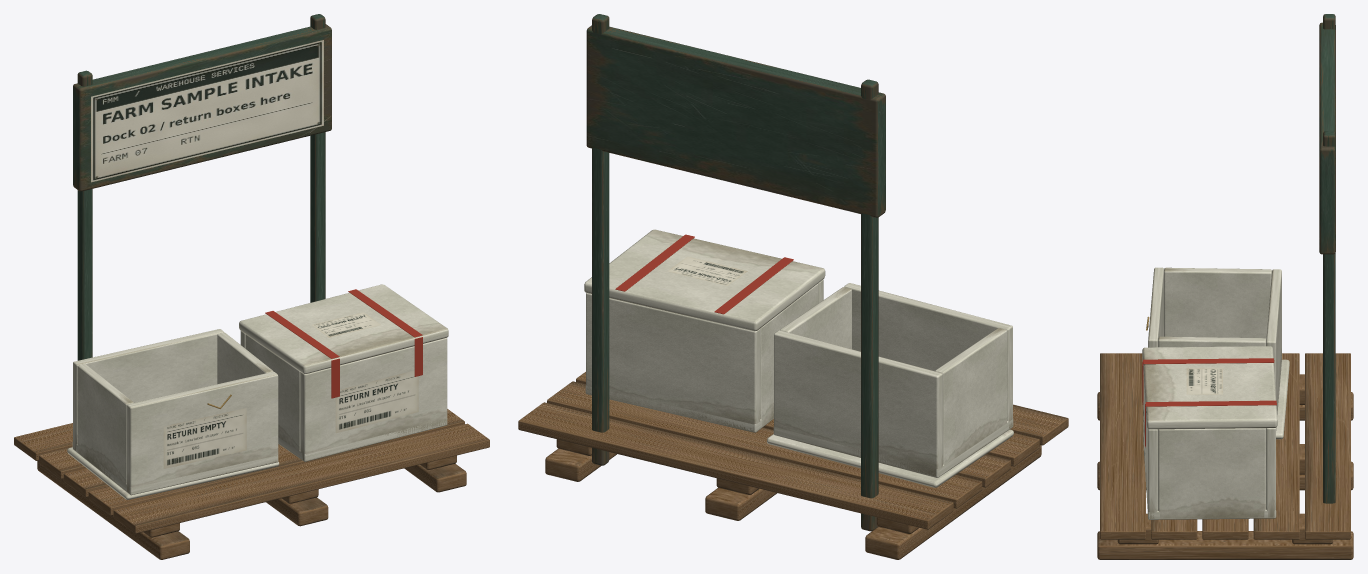
The model's file is 06_Farm_Sample_Return.glb.
The picture shows the model from 3 angles, left to right: view 1: azimuth 30°, elevation 25°; view 2: azimuth 150°, elevation 25°; view 3: azimuth 270°, elevation 25°; orthographic projection. The views are drawn at different scales.
Parts seen in each view (by area): view 1: EPS shipper front/back, Farm sample handover, Pallet plank, Tongued foam lid.001, EPS shipper ends, Dock slot signage, Pallet runner, Return to farm, Intact inbound sticker.001, Dock sign posts, Dock sign posts.001, EPS shipper bottom.002 (+6 smaller); view 2: EPS shipper front/back, Dock slot signage, Pallet plank, Tongued foam lid.001, EPS shipper ends, Dock sign posts.001, Dock sign posts, Pallet runner, Foam lid underneath.001, EPS shipper bottom.002, EPS shipper bottom.003, Manifest pouch (+3 smaller); view 3: Pallet plank, EPS shipper ends, Tongued foam lid.001, Pallet runner, EPS shipper front/back, Dock slot signage, Dock sign posts.001, Pallet block, Manifest pouch, Seal over lid.003, Seal over lid.002, Foam lid underneath.001 (+1 smaller).
Part boxes in pixels (x1=…): EPS shipper front/back: x1=73, y1=329, x2=447, y2=493; Farm sample handover: x1=91, y1=40, x2=323, y2=182; Pallet plank: x1=14, y1=409, x2=489, y2=533; Tongued foam lid.001: x1=239, y1=284, x2=448, y2=373; EPS shipper ends: x1=77, y1=332, x2=300, y2=483; Dock slot signage: x1=73, y1=24, x2=331, y2=191; Pallet runner: x1=37, y1=460, x2=466, y2=559; Return to farm: x1=163, y1=408, x2=246, y2=468; Intact inbound sticker.001: x1=335, y1=370, x2=418, y2=433; Dock sign posts: x1=77, y1=70, x2=92, y2=360; Dock sign posts.001: x1=310, y1=14, x2=325, y2=302; EPS shipper bottom.002: x1=72, y1=442, x2=278, y2=495; EPS shipper front/back: x1=586, y1=279, x2=1012, y2=476; Dock slot signage: x1=586, y1=25, x2=885, y2=217; Pallet plank: x1=518, y1=372, x2=1068, y2=529; Tongued foam lid.001: x1=584, y1=229, x2=825, y2=331; EPS shipper ends: x1=760, y1=284, x2=1006, y2=465; Dock sign posts.001: x1=592, y1=14, x2=609, y2=465; Dock sign posts: x1=861, y1=79, x2=878, y2=531; Pallet runner: x1=545, y1=445, x2=1041, y2=559; Foam lid underneath.001: x1=767, y1=429, x2=1013, y2=487; EPS shipper bottom.002: x1=773, y1=418, x2=1013, y2=477; EPS shipper bottom.003: x1=585, y1=385, x2=773, y2=432; Manifest pouch: x1=667, y1=256, x2=747, y2=285; Pallet plank: x1=1100, y1=353, x2=1350, y2=539; EPS shipper ends: x1=1158, y1=267, x2=1271, y2=518; Tongued foam lid.001: x1=1142, y1=346, x2=1277, y2=429; Pallet runner: x1=1097, y1=392, x2=1353, y2=559; EPS shipper front/back: x1=1143, y1=267, x2=1281, y2=518; Dock slot signage: x1=1319, y1=22, x2=1335, y2=254; Dock sign posts.001: x1=1323, y1=131, x2=1335, y2=503; Pallet block: x1=1117, y1=374, x2=1333, y2=544; Manifest pouch: x1=1186, y1=368, x2=1222, y2=394; Seal over lid.003: x1=1145, y1=400, x2=1276, y2=406; Seal over lid.002: x1=1143, y1=358, x2=1274, y2=364; Foam lid underneath.001: x1=1276, y1=359, x2=1289, y2=439.
Bounding box in the file's own units: 1.22 × 1.31 × 0.74.
Materials: 8 (6 with a texture image).
